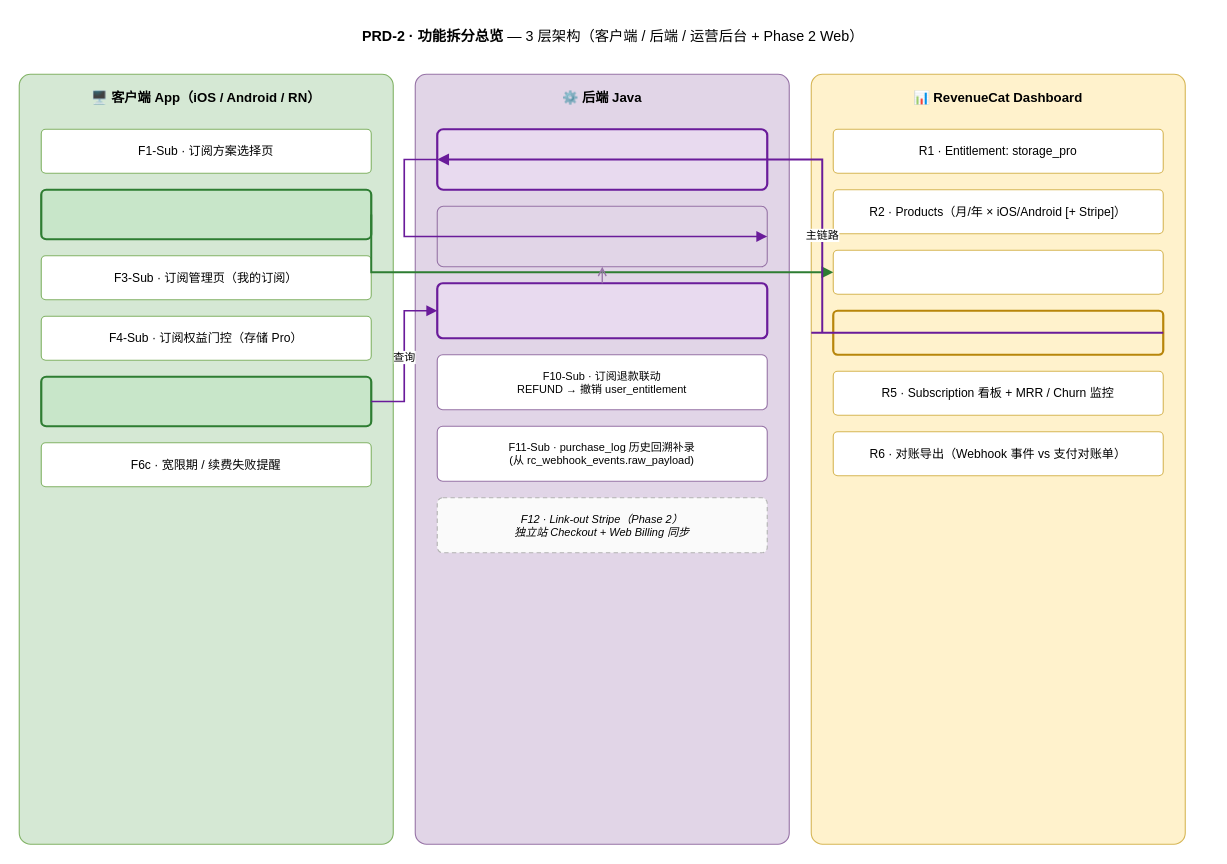
This 1227x864 diagram has some shape labels left out. The centre of each missing label's shape, as x and y in pixels:
"F2-Sub · 订阅购买流程（含免费试用）" goes at pixel 206 214.
"F6a · 我的购买页（课程 + 订阅统一）" goes at pixel 206 401.
"F7-Sub · Webhook 订阅事件处理 (RENEWAL/CANCEL/EXPIRE/BILLING/REFUND/CHANGE)" goes at pixel 602 159.
"F8-Sub · 三张表 user_entitlement + user_subscription + purchase_log" goes at pixel 601 236.
"F9 · GET /user/{id}/purchases (我的购买查询 API)" goes at pixel 602 310.
"R3 · Offering default 新增 2 个 Package" goes at pixel 997 271.
"R4 · 订阅事件 Webhook 订阅清单扩展" goes at pixel 998 332.
